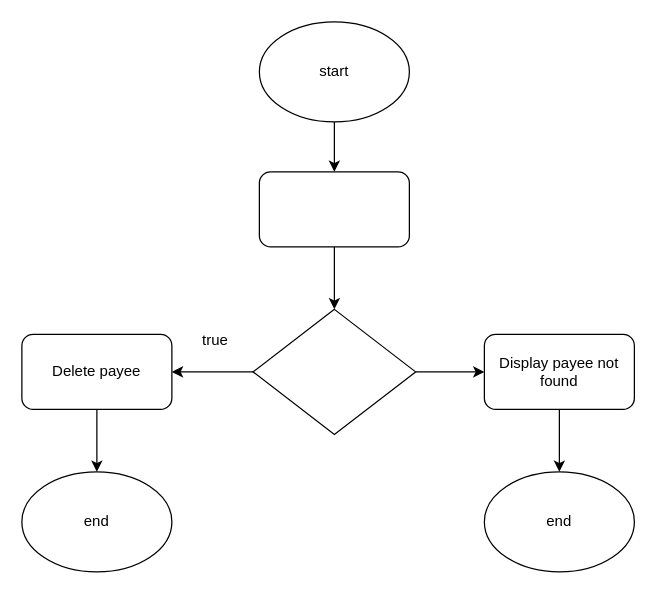
This 656x594 diagram has some shape labels left out. Each missing label, with the centre of its shape:
Enter the payee details: the point at 333,209
Is payee detail exists?: the point at 334,371
